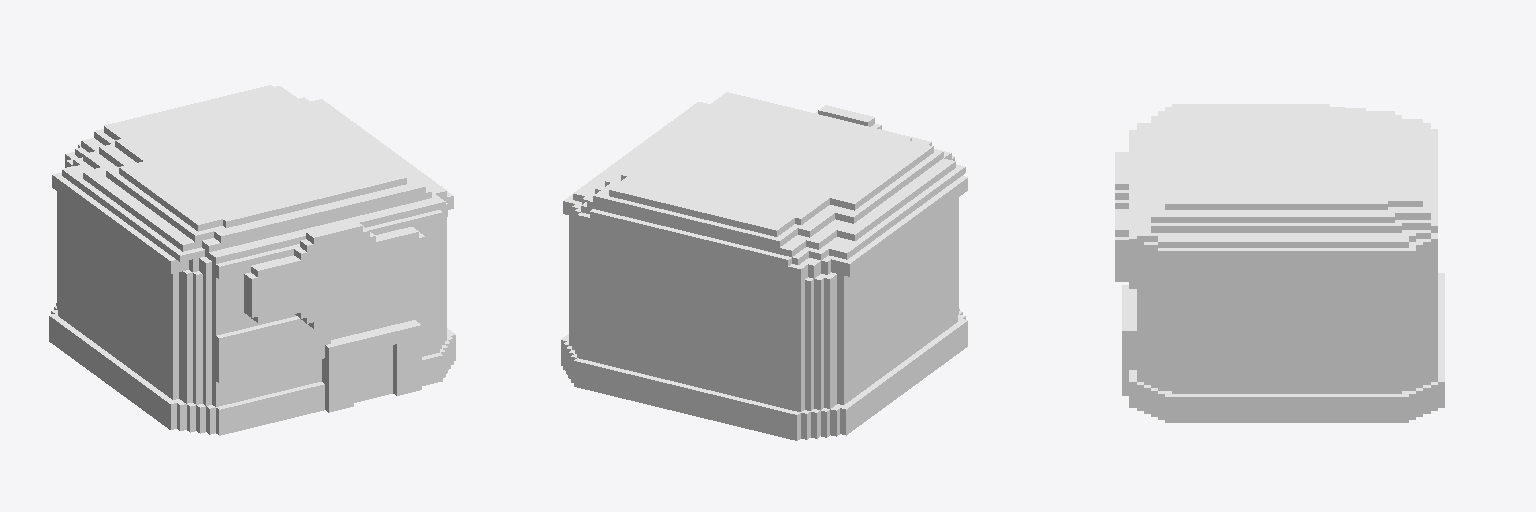
The model's file is poke_mart.obj.
3 renders of one model, left to right at view 1: azimuth 30°, elevation 25°; view 2: azimuth 150°, elevation 25°; view 3: azimuth 270°, elevation 25°, orthographic.
Parts seen in each view (by area): view 1: object 1; view 2: object 1; view 3: object 1.
Part boxes in pixels (x1,y1,x2,y2): object 1: (49, 85, 455, 435); object 1: (561, 92, 967, 440); object 1: (1115, 104, 1444, 422).
Bounding box in the file's own units: 4.6 × 3 × 4.6.